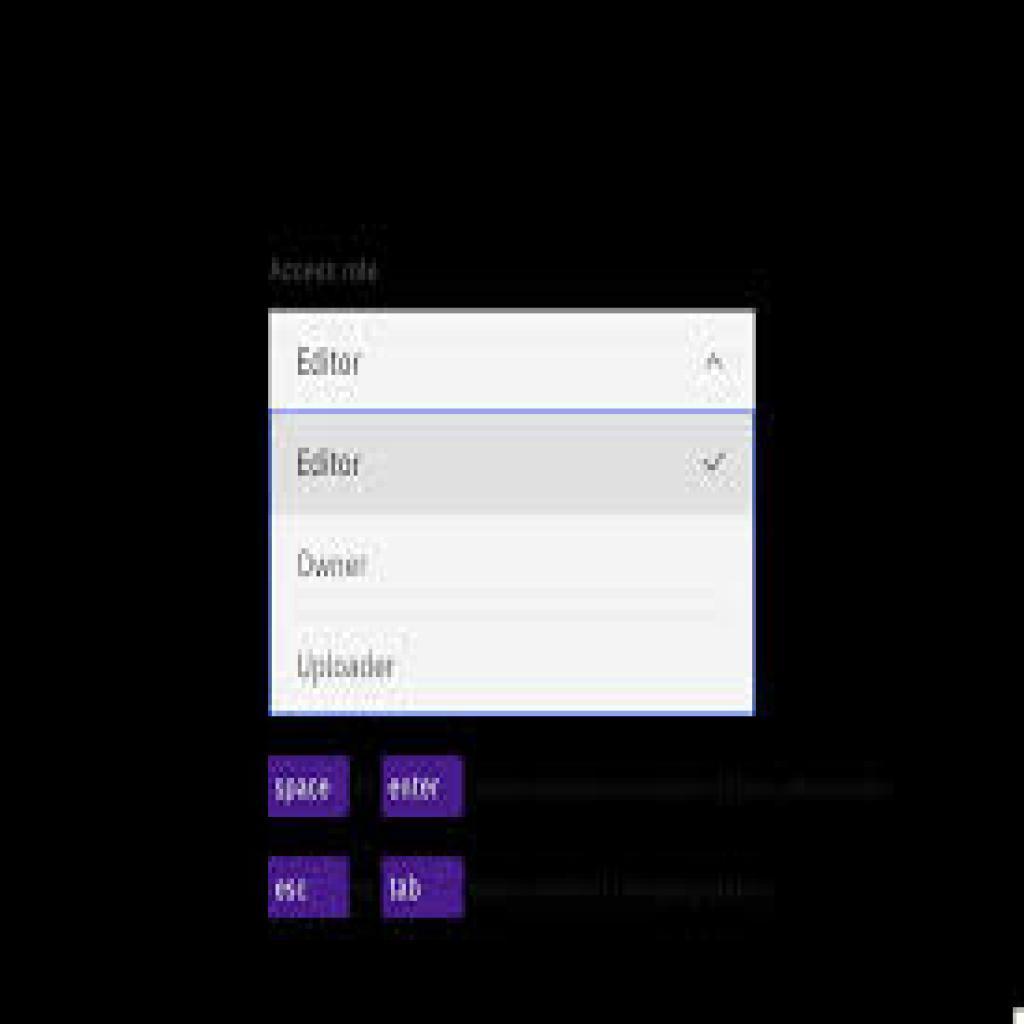button: (377, 853, 465, 919), (264, 756, 350, 816), (266, 854, 346, 918), (380, 754, 459, 815)
dropdown: (267, 309, 757, 414)
